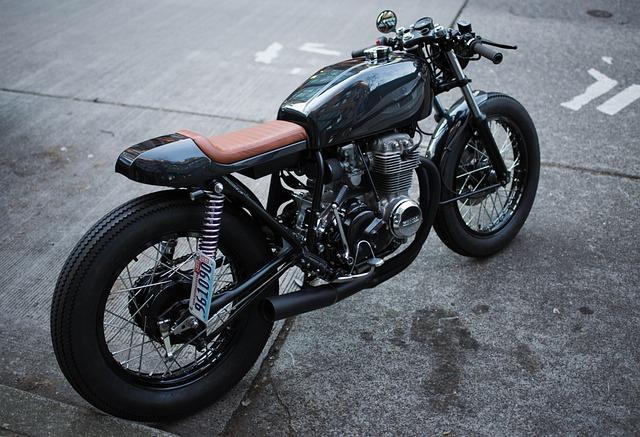Non_Gorille: (40, 3, 631, 437)
